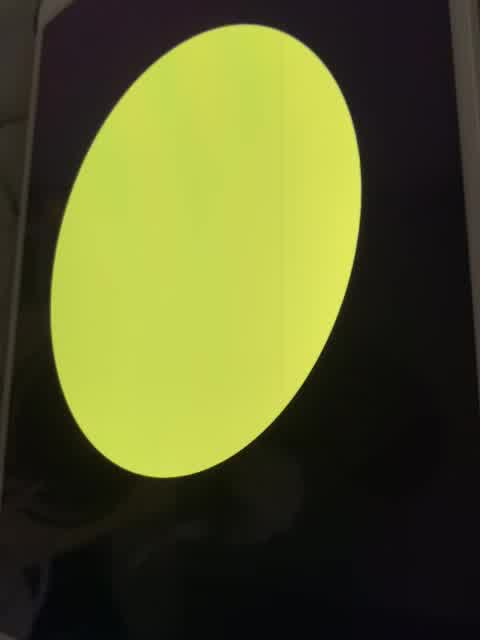left: (34, 19, 379, 493)
